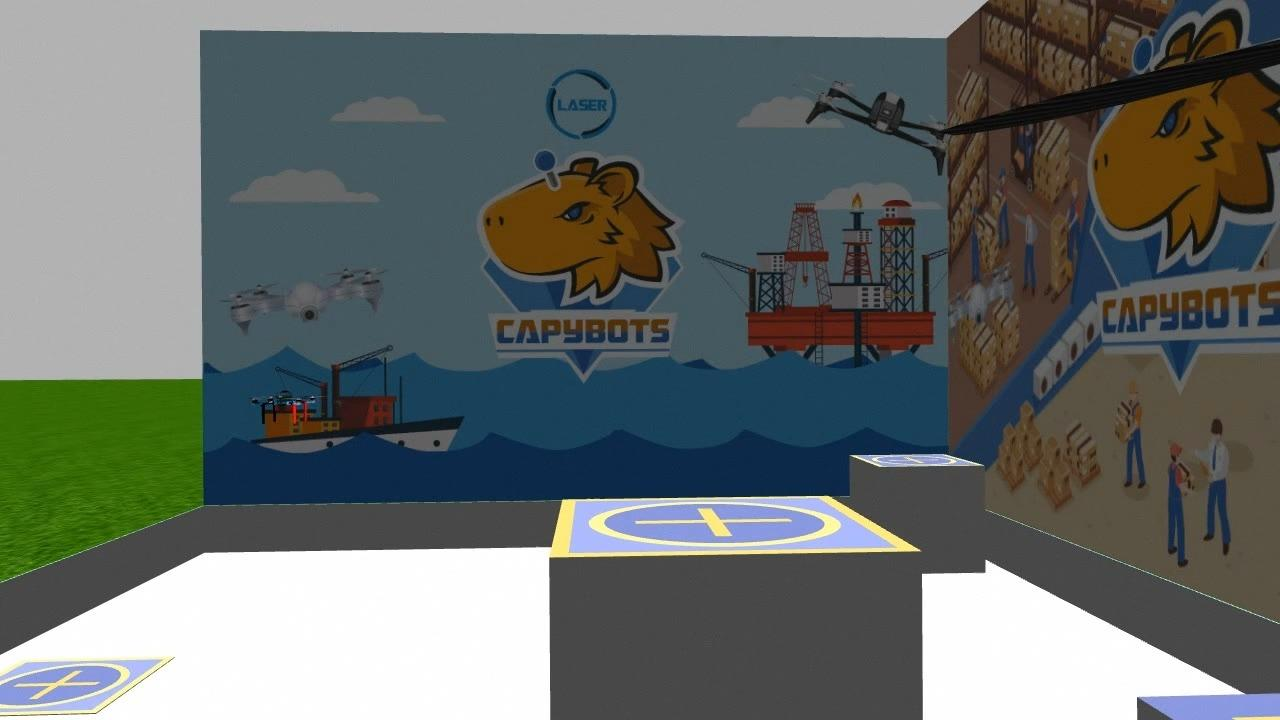UAV: (244, 374, 324, 436)
